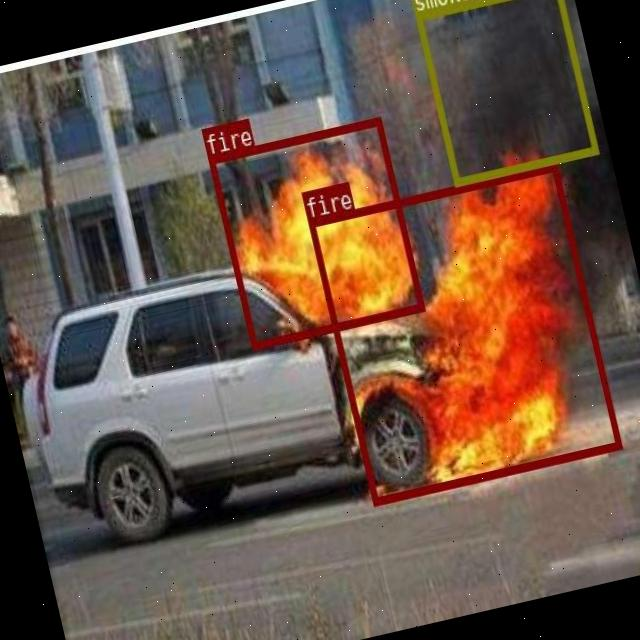fire: (306, 161, 621, 504), (207, 115, 423, 348)
smoke: (413, 0, 597, 185)
